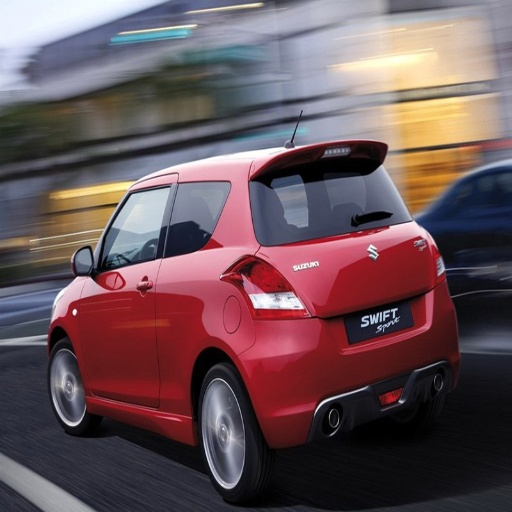back_bumper: (240, 291, 459, 444)
back_glass: (259, 160, 407, 243), (332, 40, 434, 86)
back_left_door: (162, 180, 208, 262)
tailgate: (280, 265, 404, 340)
trunk: (271, 225, 430, 345)
